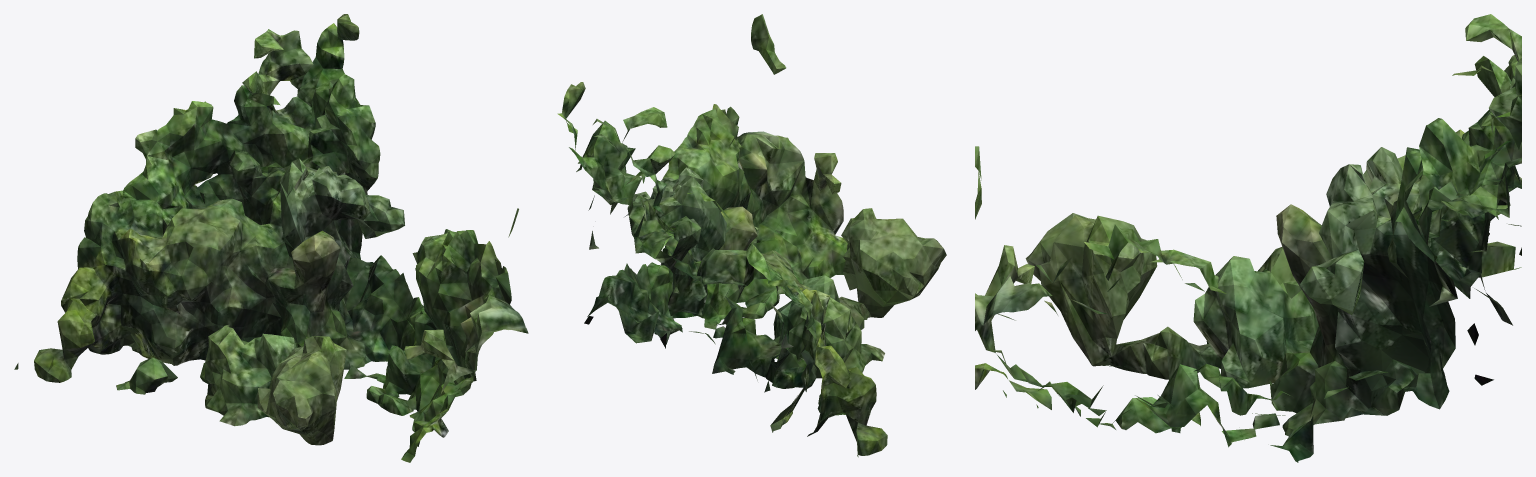
3 views of the same model, side by side, from view 1: azimuth 30°, elevation 25°; view 2: azimuth 150°, elevation 25°; view 3: azimuth 270°, elevation 25° (orthographic). The views are drawn at different scales.
Bounding box in the file's own units: 24.75 × 21.29 × 26.11.
5 materials, 5 textured.
